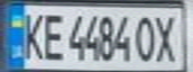4: (63, 10, 87, 62), (112, 11, 136, 62), (81, 11, 100, 62)
8: (97, 11, 118, 62)
E: (39, 10, 66, 62)
K: (18, 8, 48, 62)
O: (133, 11, 160, 63)
X: (151, 11, 181, 63)
